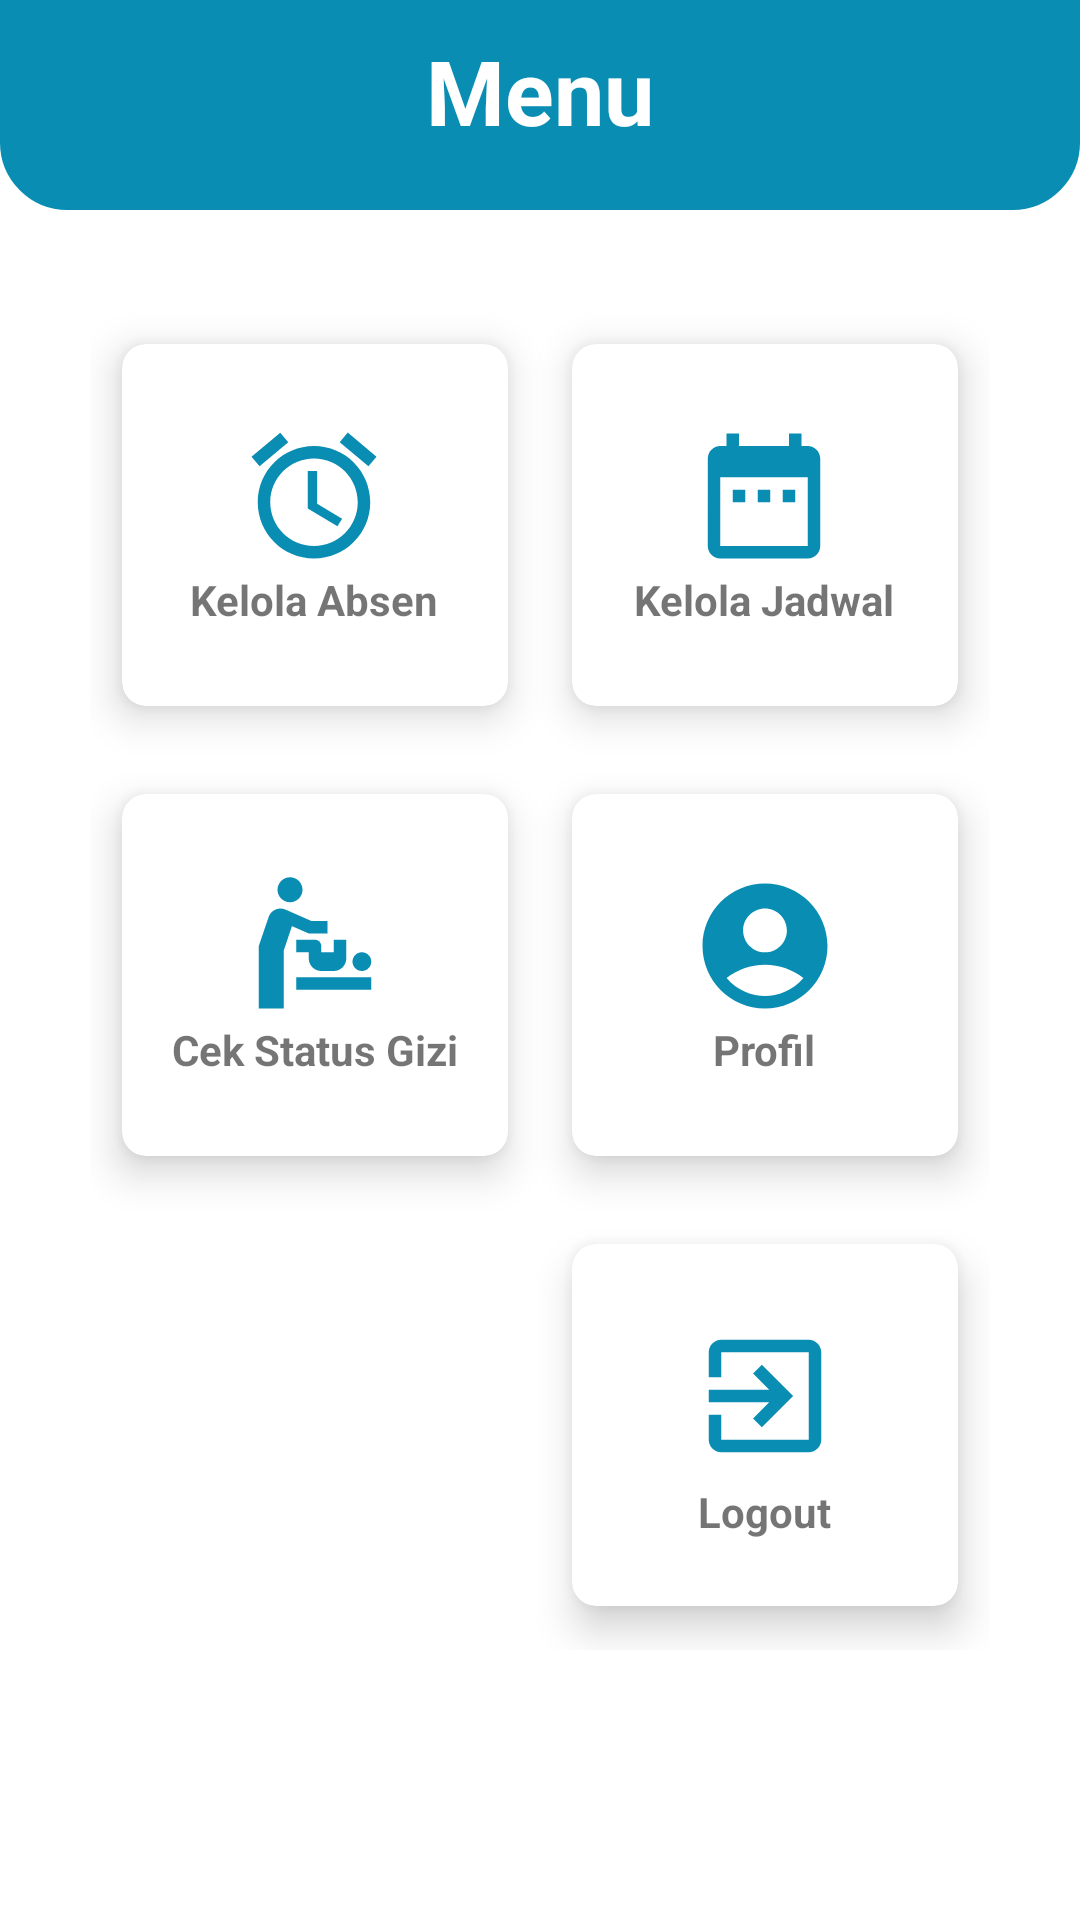

Locate icon controls on the screen. Image size 1080 x 1920, boxes as (x1=x1, y1=y1, x2=x2, y2=y2).
account: (x1=702, y1=883, x2=828, y2=1009)
exit: (x1=708, y1=1339, x2=822, y2=1453)
